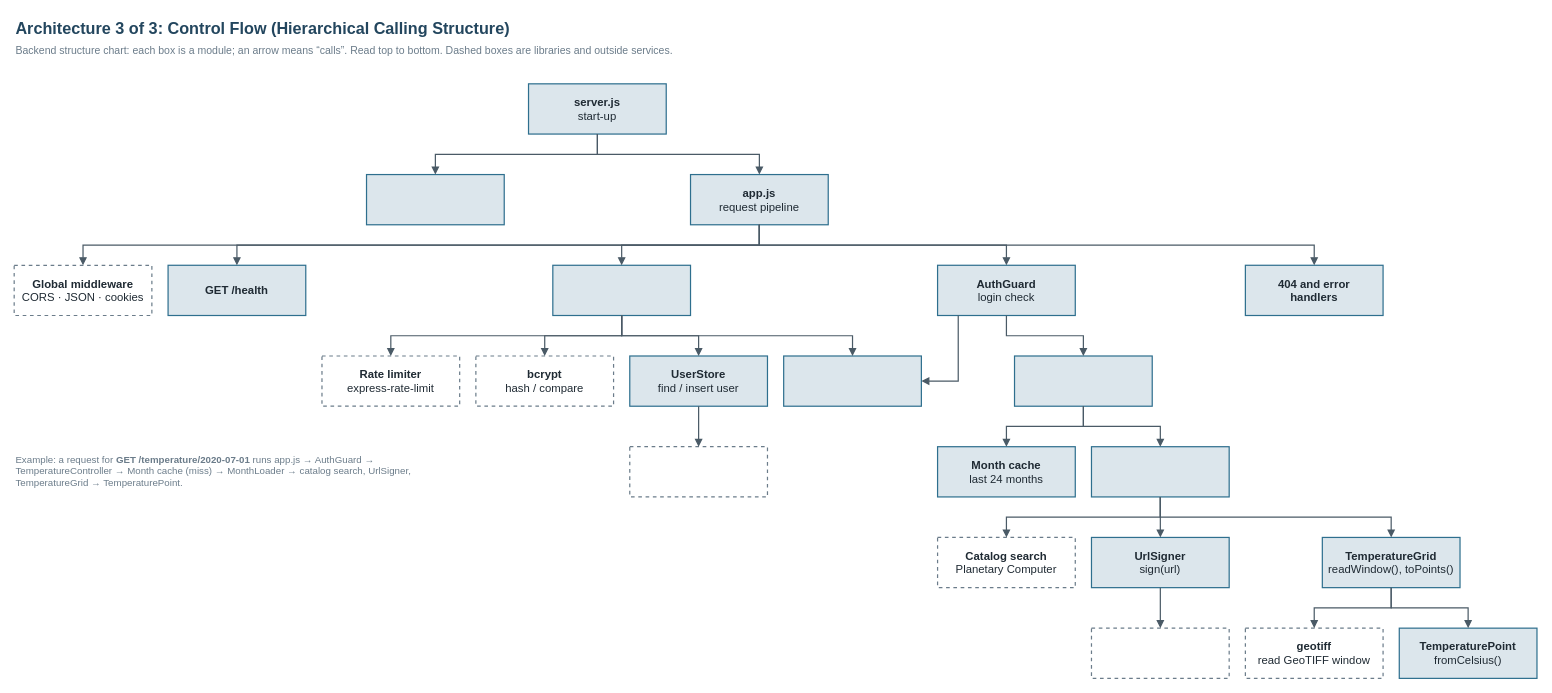
The diagram is 1552 pixels wide and 693 high, and some of its shapes have lost their labels. Each missing label, with the centre of its shape:
AuthController /auth routes: point 621,290
Azure Database for MySQL: point 698,471
config/env.js load settings: point 435,199
MonthLoader loadMonth(): point 1160,471
SessionToken sign / verify JWT, cookie options: point 852,380
Signing service Planetary Computer: point 1160,653
TemperatureController /temperature/:date: point 1083,380
